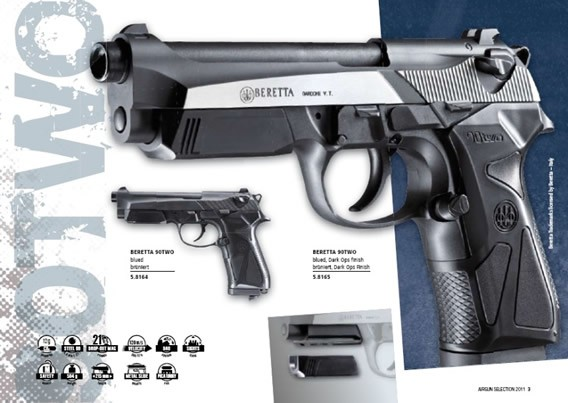gun: (90, 13, 564, 369)
